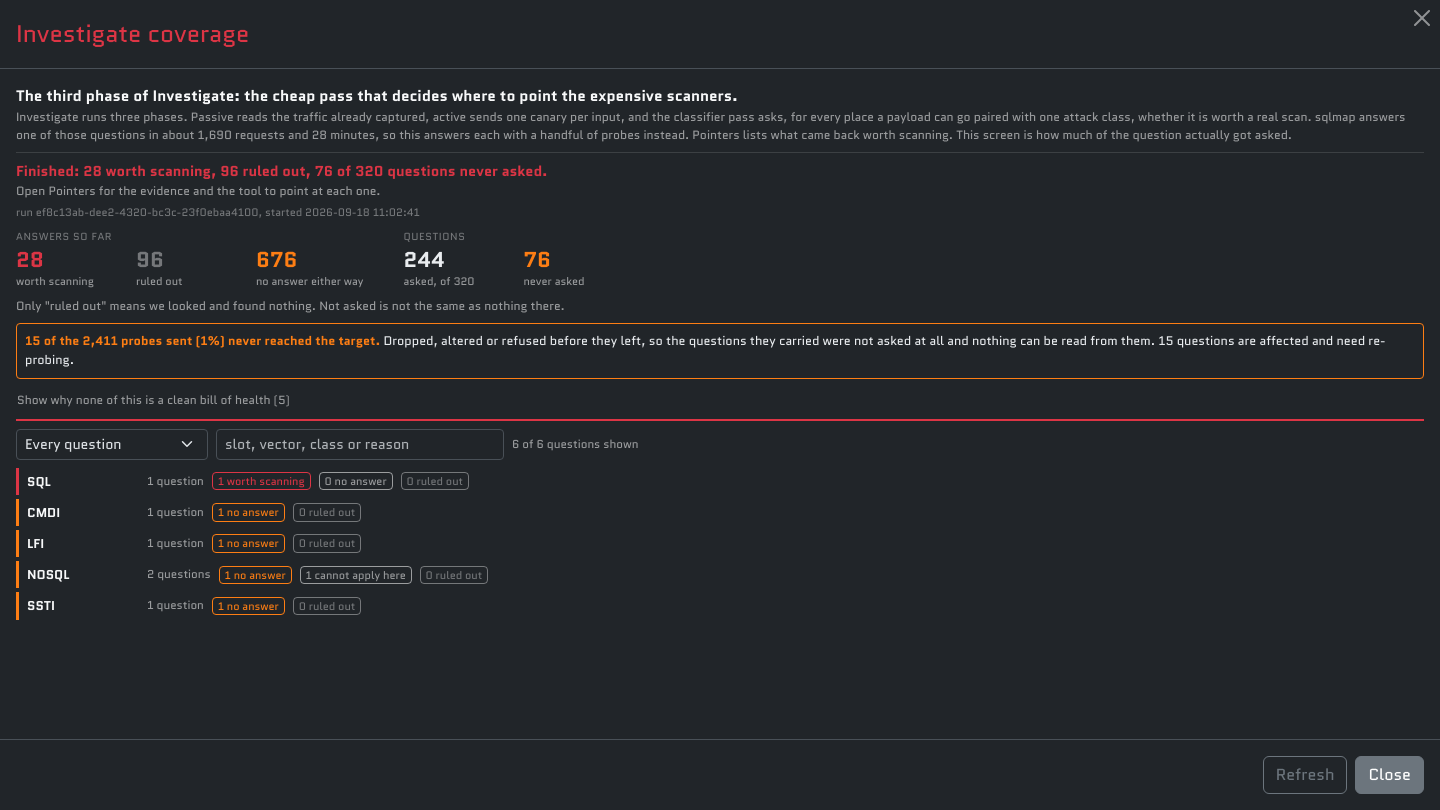
Test: the named reason is readable, and opening a class shows the reason buckets and the slots
This screenshot has width=1440, height=810.
Click the button "CMDI 1 question 1 no answer 0 ruled out" at (44, 512), box [16, 499, 1424, 526]
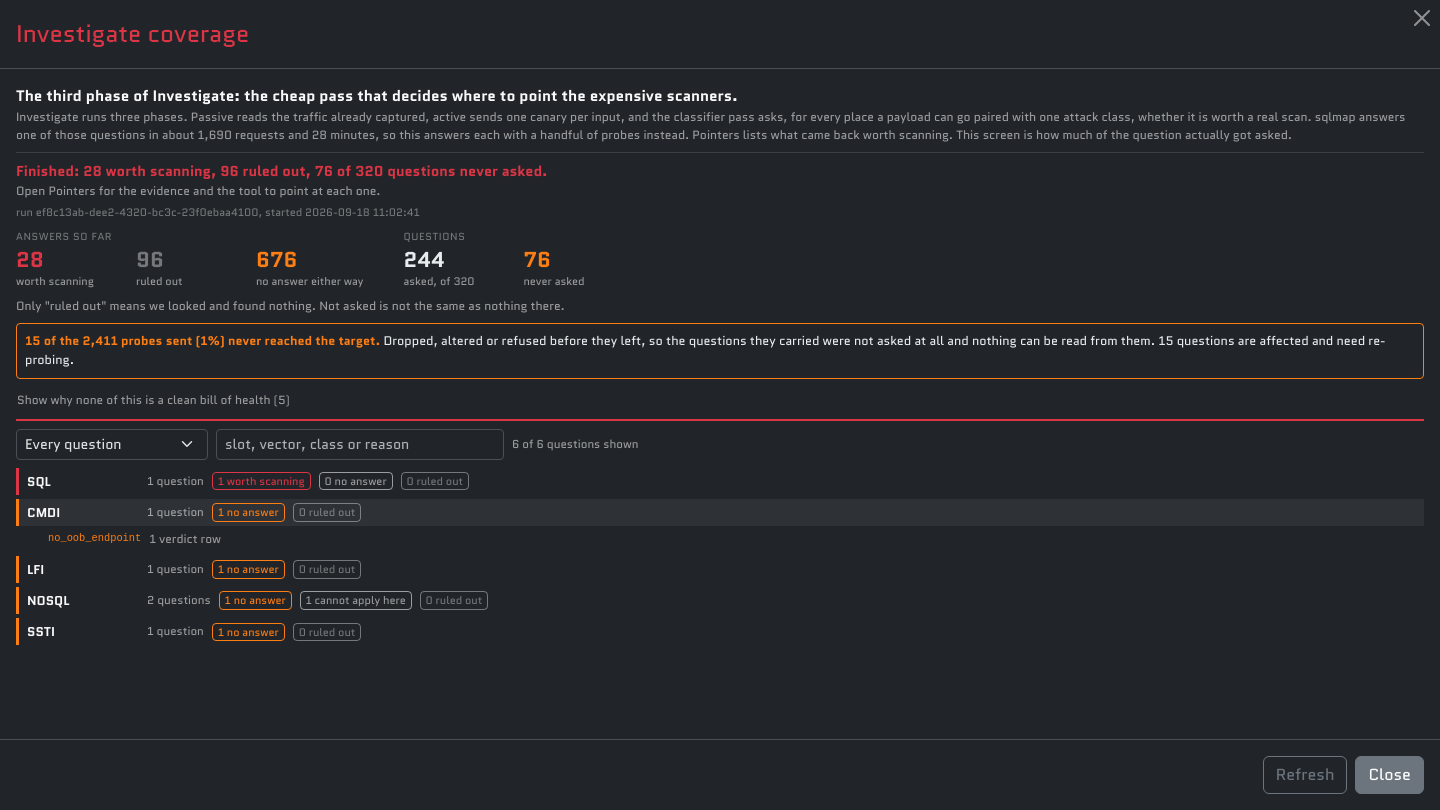
Check: the text "no_oob_endpoint" is shown, box [48, 531, 141, 547]
Check: the button "no_oob_endpoint 1 verdict row" is shown
Click the button "no_oob_endpoint 1 verdict row" at (134, 538), box [48, 530, 221, 547]
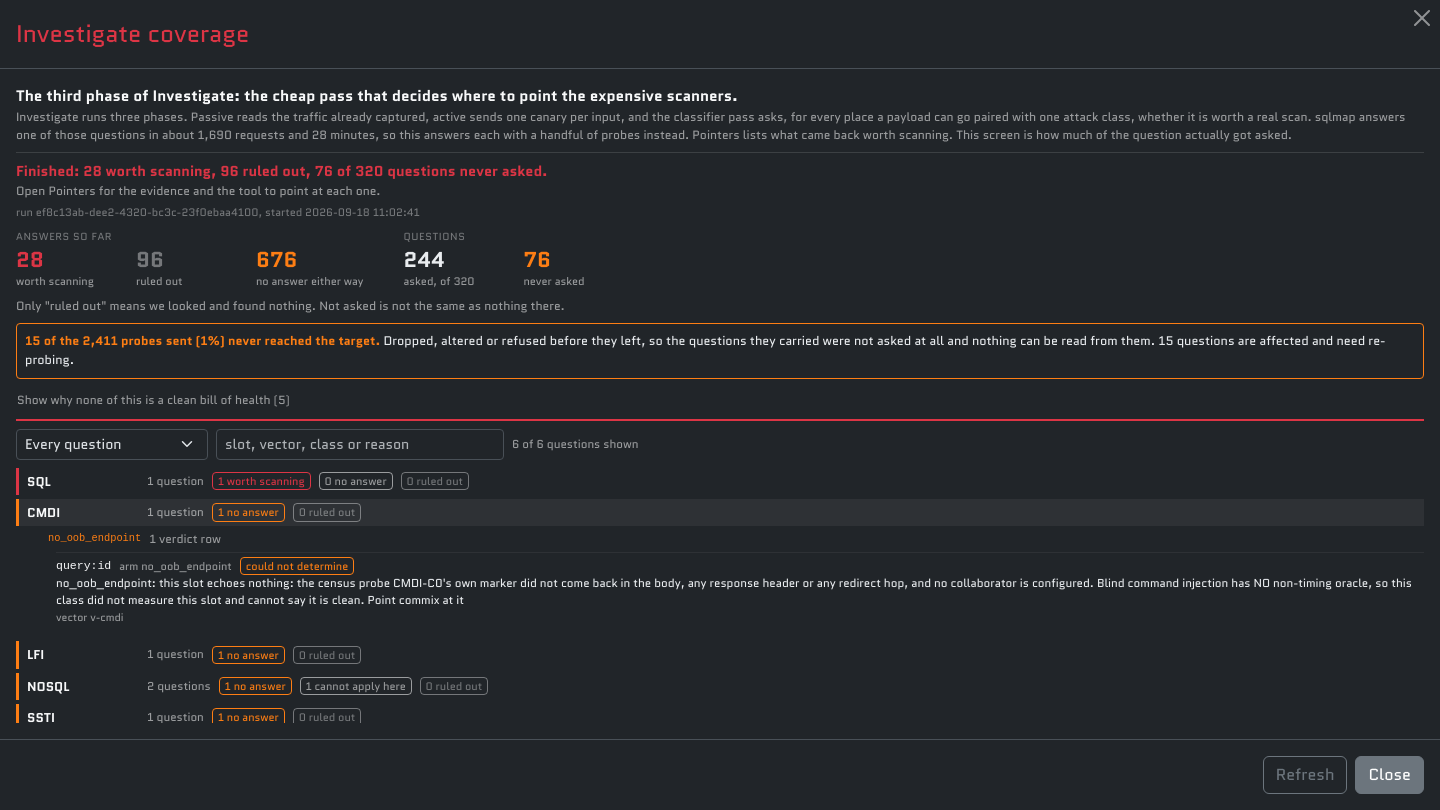
Check: the text "query:id" is shown, box [56, 557, 111, 575]
Check: the text "Point commix at it" is shown, box [56, 575, 1412, 608]
